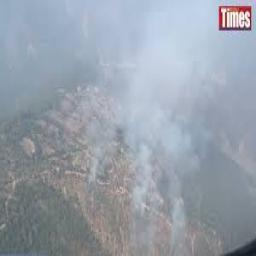Low smoke: (0, 0, 256, 242)
